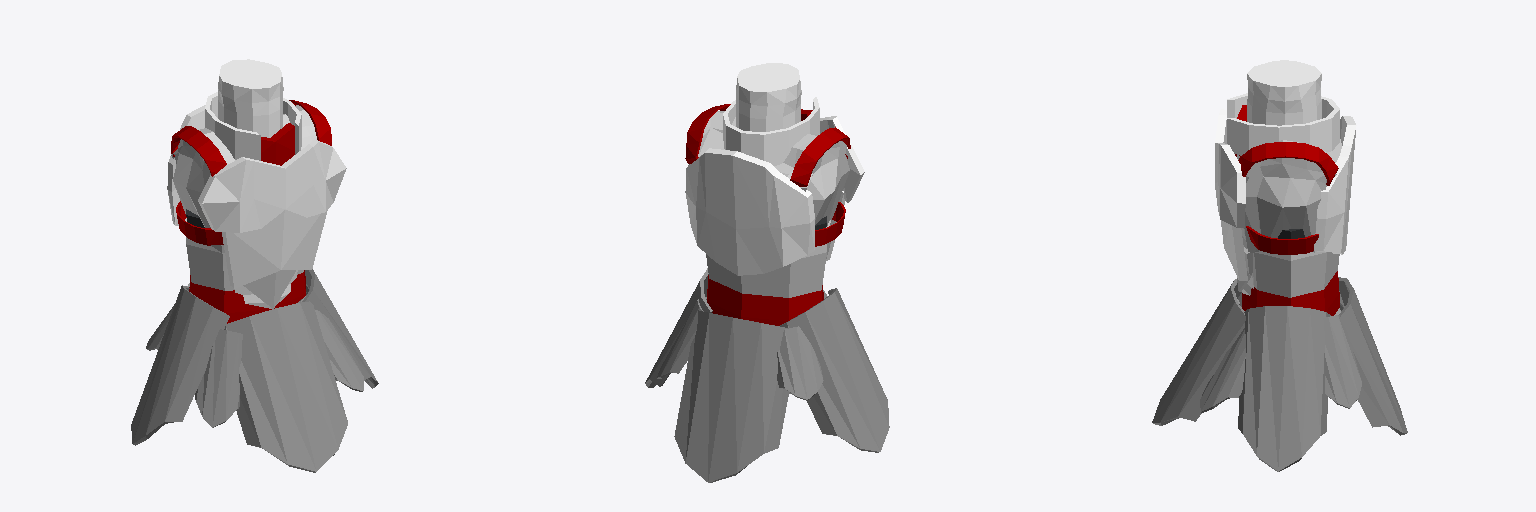
The model's file is body.obj.
3 views of the same model, side by side, from view 1: azimuth 30°, elevation 25°; view 2: azimuth 150°, elevation 25°; view 3: azimuth 270°, elevation 25° (orthographic).
Visible parts, largest first — view 1: Body pPipe39, Body pCube18, Body pPipe40, Body pCube19, Body pCylinder5, Body pPipe44, Body pCube23, Body pPipe3, Body pCylinder10, Body pCylinder9, Body pPipe43, Body pPipe41 (+6 smaller); view 2: Body pPipe42, Body pCube22, Body pPipe40, Body pCylinder5, Body pCube23, Body pCylinder9, Body pCylinder10, Body pPipe3, Body pPipe46, Body pPipe4, Body pPipe41, Body pPipe45 (+3 smaller); view 3: Body pPipe41, Body pCube23, Body pPipe39, Body pCylinder5, Body pPipe42, Body pPipe3, Body pCylinder9, Body pCube22, Body pPipe45, Body pCube18, Body pPipe43, pPipe5 Body (+3 smaller).
Boxes of the visible parts, x1=… form: Body pPipe39: x1=224, y1=301, x2=347, y2=472; Body pCube18: x1=198, y1=139, x2=346, y2=232; Body pPipe40: x1=131, y1=285, x2=229, y2=445; Body pCube19: x1=222, y1=210, x2=327, y2=288; Body pCylinder5: x1=218, y1=59, x2=283, y2=137; Body pPipe44: x1=195, y1=329, x2=242, y2=427; Body pCube23: x1=171, y1=105, x2=316, y2=245; Body pPipe3: x1=205, y1=92, x2=301, y2=160; Body pCylinder10: x1=189, y1=270, x2=305, y2=323; Body pCylinder9: x1=185, y1=218, x2=303, y2=290; Body pPipe43: x1=298, y1=291, x2=363, y2=391; Body pPipe41: x1=302, y1=269, x2=378, y2=388; Body pPipe42: x1=674, y1=310, x2=788, y2=482; Body pCube22: x1=685, y1=148, x2=814, y2=275; Body pPipe40: x1=780, y1=288, x2=889, y2=452; Body pCylinder5: x1=736, y1=63, x2=801, y2=131; Body pCube23: x1=688, y1=111, x2=849, y2=225; Body pCylinder9: x1=706, y1=220, x2=830, y2=297; Body pCylinder10: x1=707, y1=275, x2=823, y2=325; Body pPipe3: x1=723, y1=97, x2=819, y2=165; Body pPipe46: x1=777, y1=326, x2=823, y2=400; Body pPipe4: x1=790, y1=127, x2=850, y2=186; Body pPipe41: x1=645, y1=268, x2=712, y2=387; Body pPipe45: x1=657, y1=297, x2=706, y2=378; Body pPipe41: x1=1238, y1=306, x2=1330, y2=471; Body pCube23: x1=1237, y1=139, x2=1341, y2=252; Body pPipe39: x1=1152, y1=279, x2=1245, y2=425; Body pCylinder5: x1=1247, y1=60, x2=1321, y2=125; Body pPipe42: x1=1338, y1=277, x2=1407, y2=435; Body pPipe3: x1=1227, y1=93, x2=1339, y2=155; Body pCylinder9: x1=1241, y1=228, x2=1339, y2=297; Body pCube22: x1=1314, y1=116, x2=1356, y2=254; Body pPipe45: x1=1323, y1=315, x2=1361, y2=408; Body pCube18: x1=1215, y1=109, x2=1245, y2=227; Body pPipe43: x1=1200, y1=328, x2=1245, y2=412; pPipe5 Body: x1=1238, y1=142, x2=1338, y2=185.
Bounding box in the file's own units: 4.55 × 6.66 × 4.27.